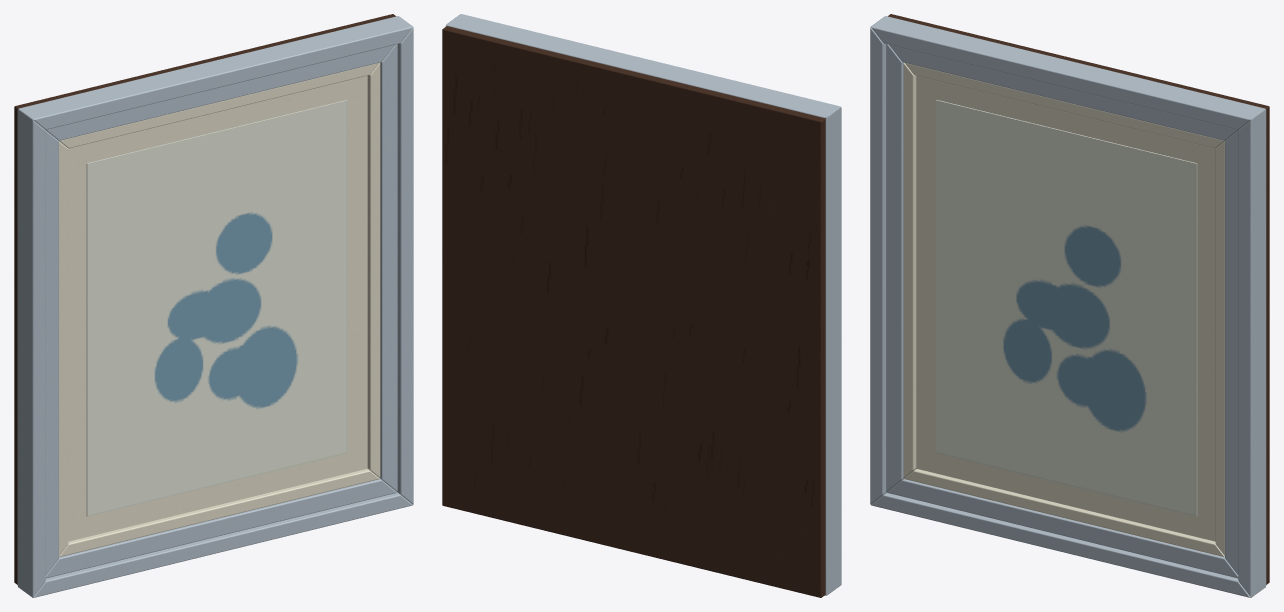
The model's file is Frame_23_FUR06.fbx.
3 views of the same model, side by side, from view 1: azimuth 30°, elevation 25°; view 2: azimuth 150°, elevation 25°; view 3: azimuth 330°, elevation 25° (orthographic).
Parts seen in each view (by area): view 1: Frame_23; view 2: Frame_23; view 3: Frame_23.
Boxes of the visible parts, left/top/right/bottom form: Frame_23: left=14, top=14, right=413, bottom=597; Frame_23: left=442, top=14, right=841, bottom=597; Frame_23: left=870, top=14, right=1269, bottom=597.
Size of the model in its own units: 0.4 by 0.48 by 0.036.
2 materials, 2 textured.
